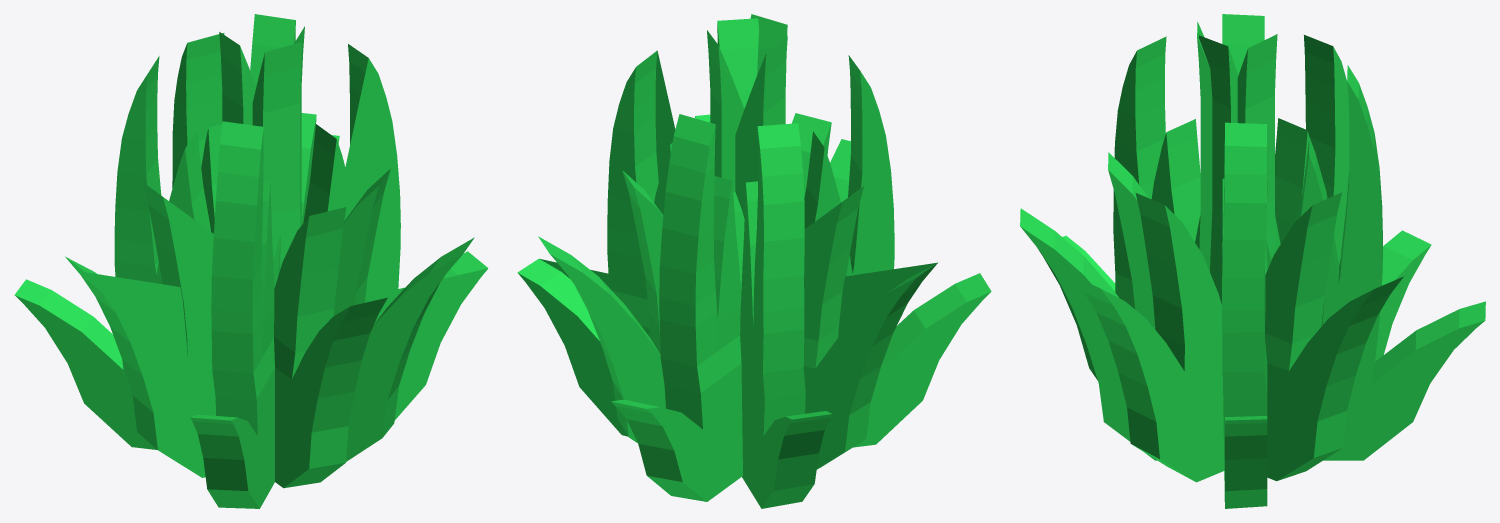
The model's file is Mato.fbx.
The picture shows the model from 3 angles, left to right: view 1: azimuth 30°, elevation 25°; view 2: azimuth 150°, elevation 25°; view 3: azimuth 270°, elevation 25°; orthographic projection.
Visible parts, largest first — view 1: Cube; view 2: Cube; view 3: Cube.
Boxes of the visible parts, box(x1,y1,x2,y2) form: Cube: box(14, 14, 488, 508); Cube: box(517, 14, 991, 508); Cube: box(1020, 14, 1485, 508).
Size of the model in its own units: 397 by 400 by 397.
